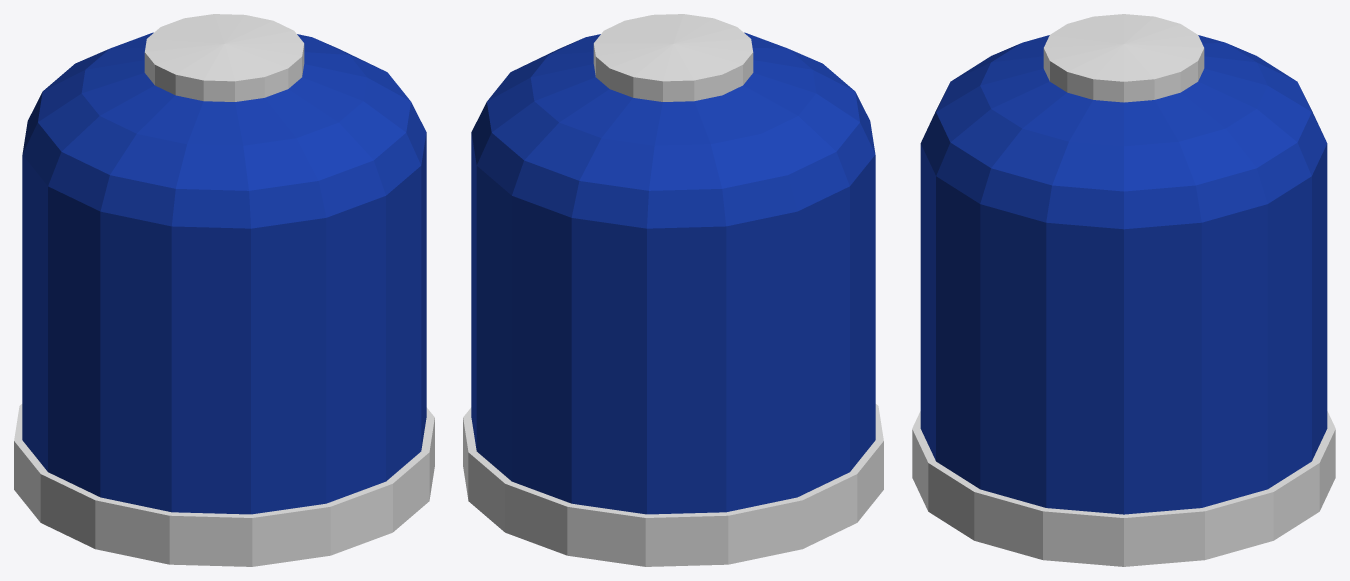
Rendered from WaterTank.glb.
3 renders of one model, left to right at view 1: azimuth 30°, elevation 25°; view 2: azimuth 150°, elevation 25°; view 3: azimuth 270°, elevation 25°, orthographic.
Visible parts, largest first — view 1: Cube.013; view 2: Cube.013; view 3: Cube.013.
Part boxes in pixels (<box>): Cube.013: <box>14,14,434,566</box>; Cube.013: <box>463,14,883,566</box>; Cube.013: <box>912,14,1335,566</box>.
Size of the model in its own units: 2.48 by 2.8 by 2.48.
